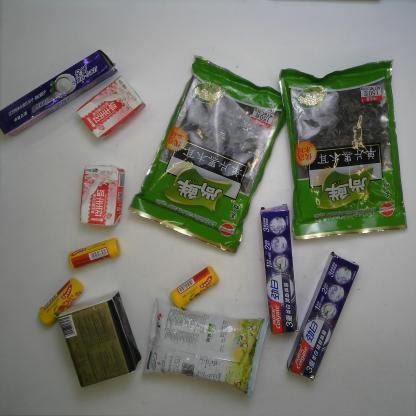Candy: (37, 276, 85, 327), (168, 264, 220, 310), (67, 238, 121, 271)
Dried Food: (126, 54, 288, 258), (276, 60, 408, 244)
Milk: (76, 75, 145, 142), (79, 163, 125, 229)
Personal Hygiene: (0, 47, 116, 139), (283, 251, 362, 382), (260, 200, 298, 336)
Puffed Food: (140, 295, 270, 396)
Tissue: (56, 288, 142, 388)
